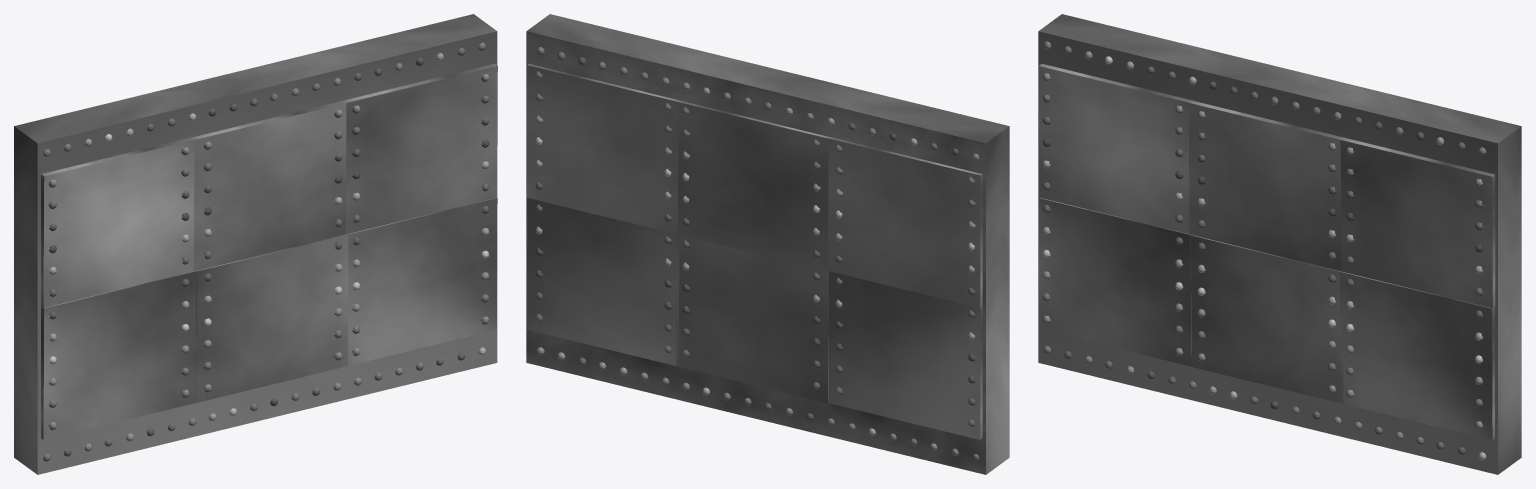
The model's file is metalWall.fbx.
The picture shows the model from 3 angles, left to right: view 1: azimuth 30°, elevation 25°; view 2: azimuth 150°, elevation 25°; view 3: azimuth 330°, elevation 25°; orthographic projection.
Parts seen in each view (by area): view 1: Icosphere.003; view 2: Icosphere.003; view 3: Icosphere.003.
Boxes of the visible parts, x1,y1,x2,y2 form: Icosphere.003: [14, 14, 497, 474]; Icosphere.003: [526, 14, 1009, 474]; Icosphere.003: [1038, 14, 1521, 474].
Size of the model in its own units: 2159 by 1488 by 270.
